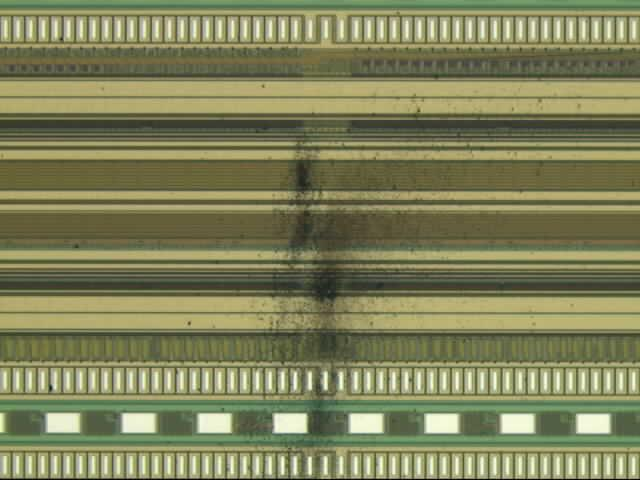PO CONTAMINATION: (243, 94, 531, 480)
